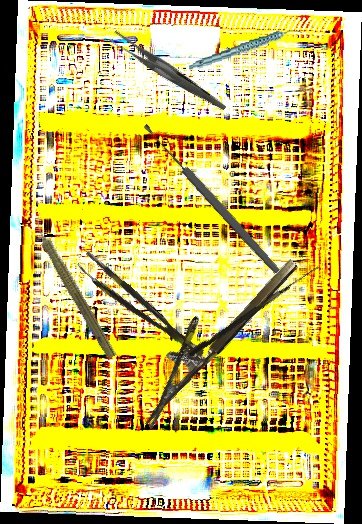Dressing Forceps: (106, 7, 227, 139)
Handpiece: (25, 212, 122, 361), (185, 28, 305, 70)
Hook Surgical: (187, 259, 320, 360)
Needle Holder: (118, 238, 301, 429)
Surgical Spoon: (141, 121, 282, 276)
Tissue Forceps: (74, 250, 206, 368)
